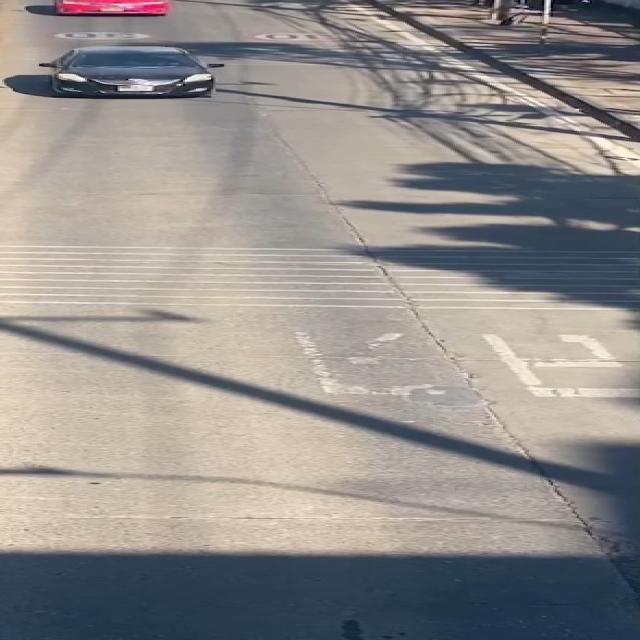car: (25, 35, 249, 109)
